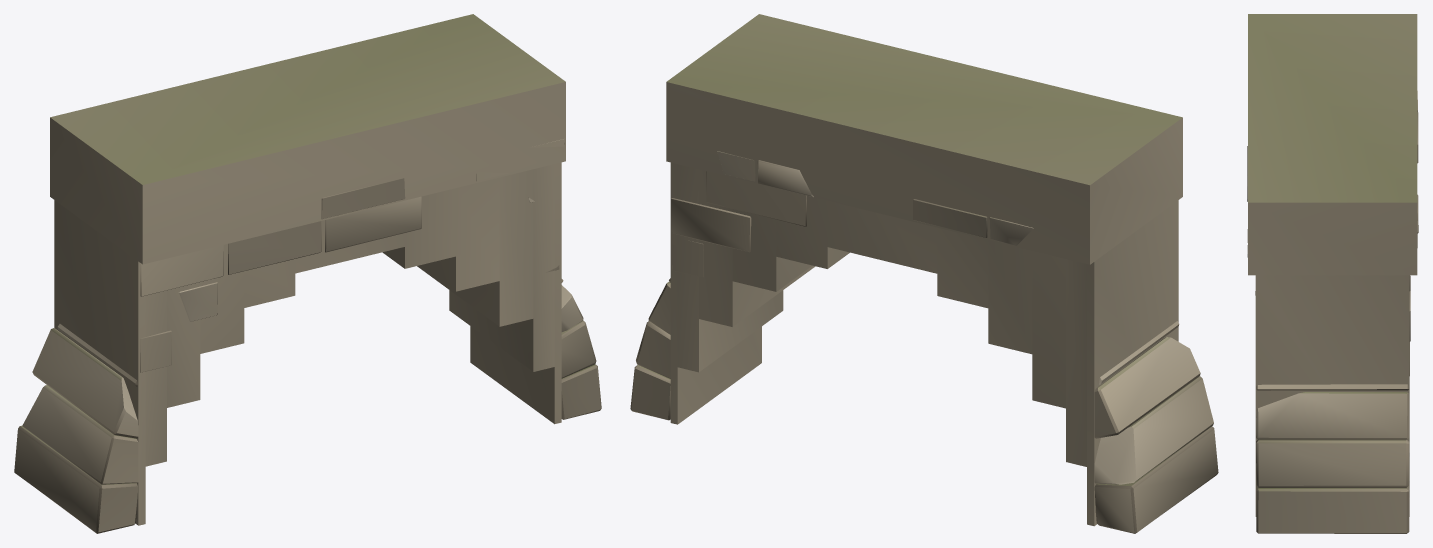
The model's file is aqueduct_arch.glb.
3 views of the same model, side by side, from view 1: azimuth 30°, elevation 25°; view 2: azimuth 150°, elevation 25°; view 3: azimuth 270°, elevation 25° (orthographic). The views are drawn at different scales.
Visible parts, largest first — view 1: aqueduct_arch_far, aqueduct_arch; view 2: aqueduct_arch_far, aqueduct_arch; view 3: aqueduct_arch_far, aqueduct_arch.
Boxes of the visible parts, x1,y1,x2,y2 form: aqueduct_arch_far: (50,14,565,525); aqueduct_arch: (14,139,601,533); aqueduct_arch_far: (666,14,1182,526); aqueduct_arch: (630,151,1218,533); aqueduct_arch_far: (1248,14,1417,516); aqueduct_arch: (1247,91,1418,533).
Bounding box in the file's own units: 17.35 × 11.25 × 5.56.
